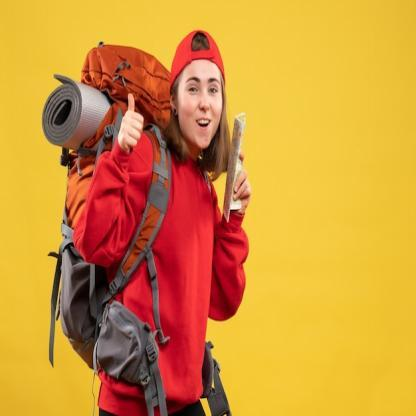thumb_up: (119, 89, 147, 150)
